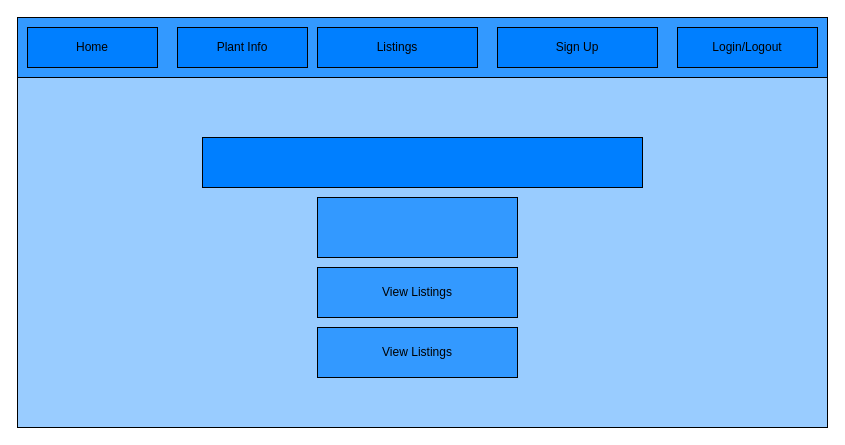
The diagram is 845 pixels wide and 445 high, and some of its shapes have lost their labels. The shapes that lost their labels are listed below. From the top down, each one's centre as x and y in pixels, then its label:
At [422,162]: "WELCOME TO PLANT APP".
At [417,227]: "Signup or Login".
